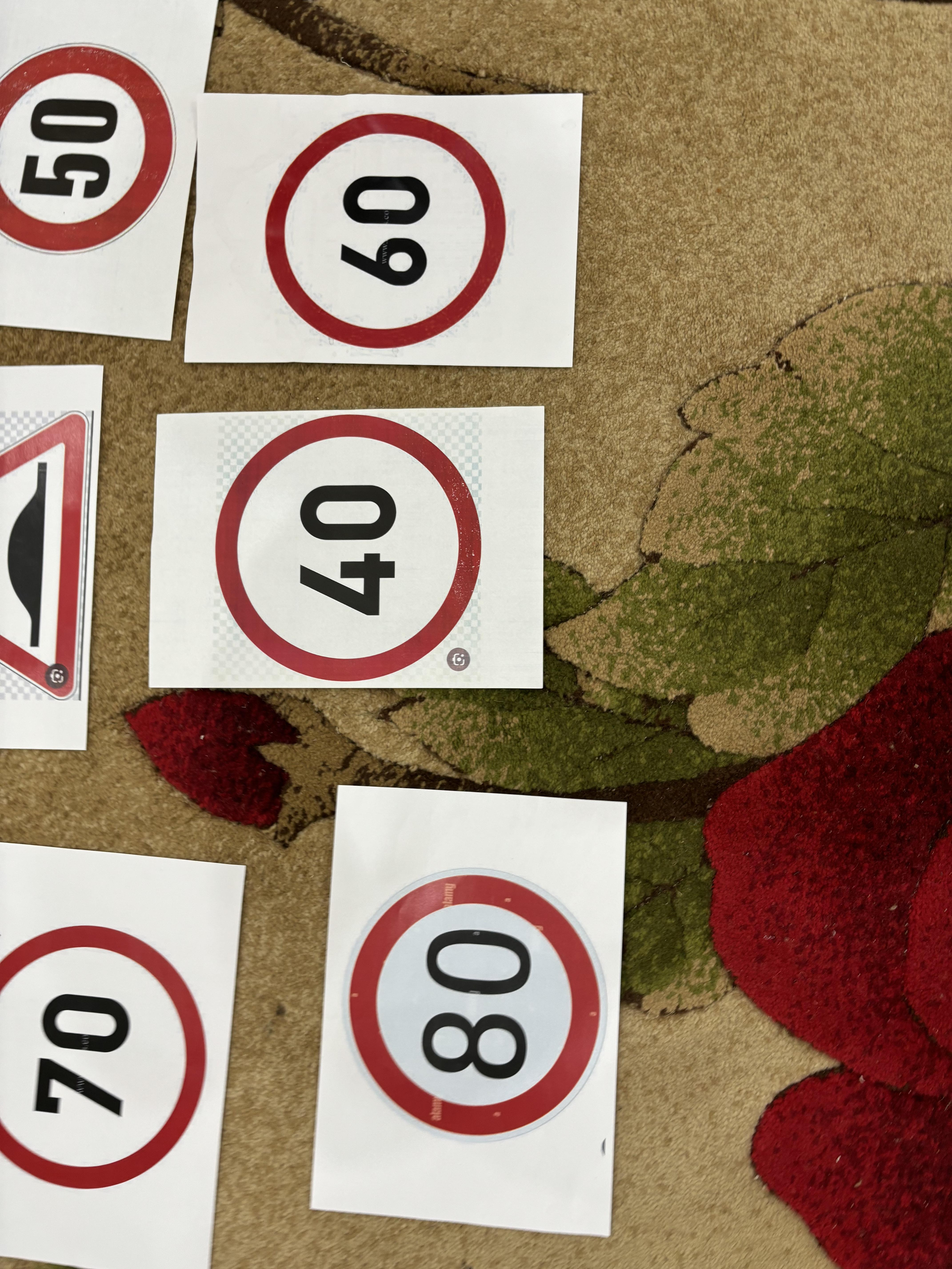40-Speed: (212, 411, 484, 682)
50-Speed: (0, 38, 178, 264)
60-Speed: (258, 105, 518, 344)
70-Speed: (3, 889, 219, 1192)
80-Speed: (347, 874, 614, 1149)
Hump: (0, 394, 90, 725)
